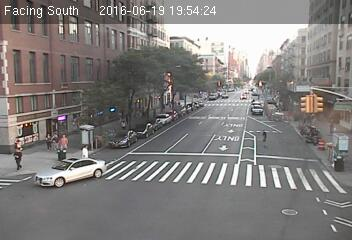neg: (253, 74, 268, 95), (191, 99, 201, 112), (221, 90, 229, 100)
pos: (8, 146, 28, 173), (256, 127, 271, 149), (40, 129, 55, 150), (57, 132, 71, 151), (52, 130, 62, 144), (119, 117, 129, 130), (11, 135, 20, 147)
